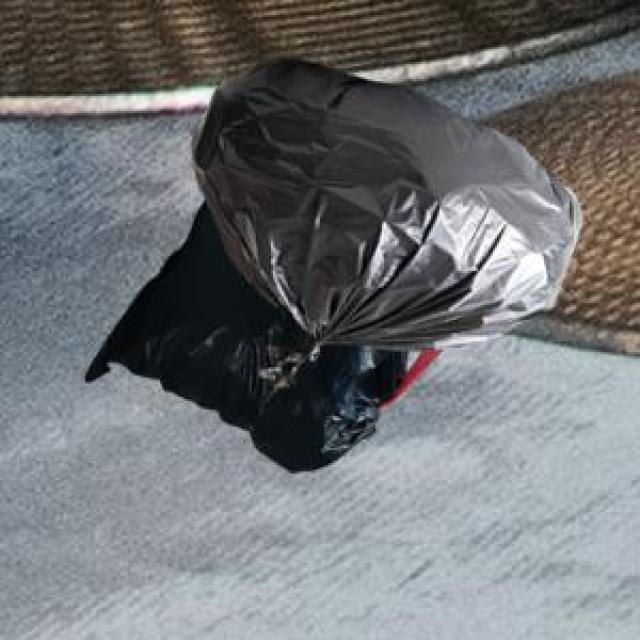garbage_bag: (84, 51, 583, 473)
